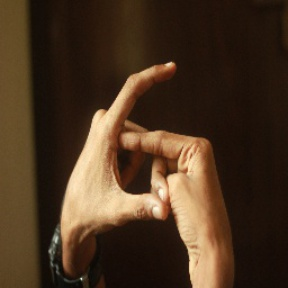E: (94, 50, 195, 227)
